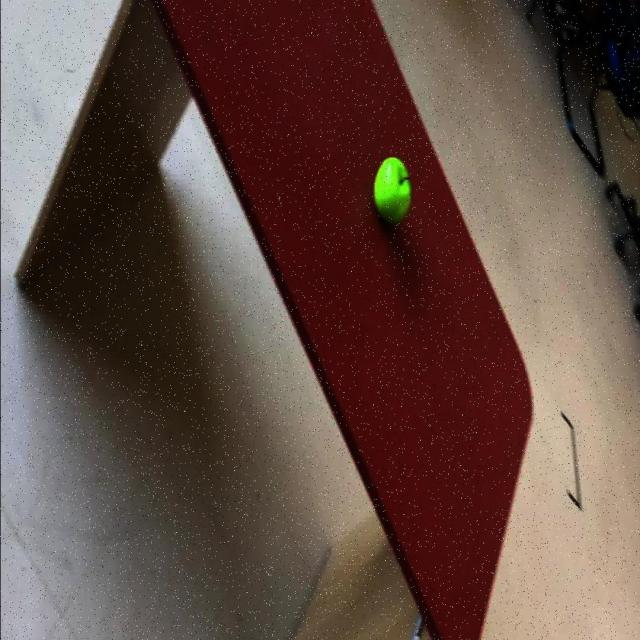Apple: (372, 157, 413, 226)
